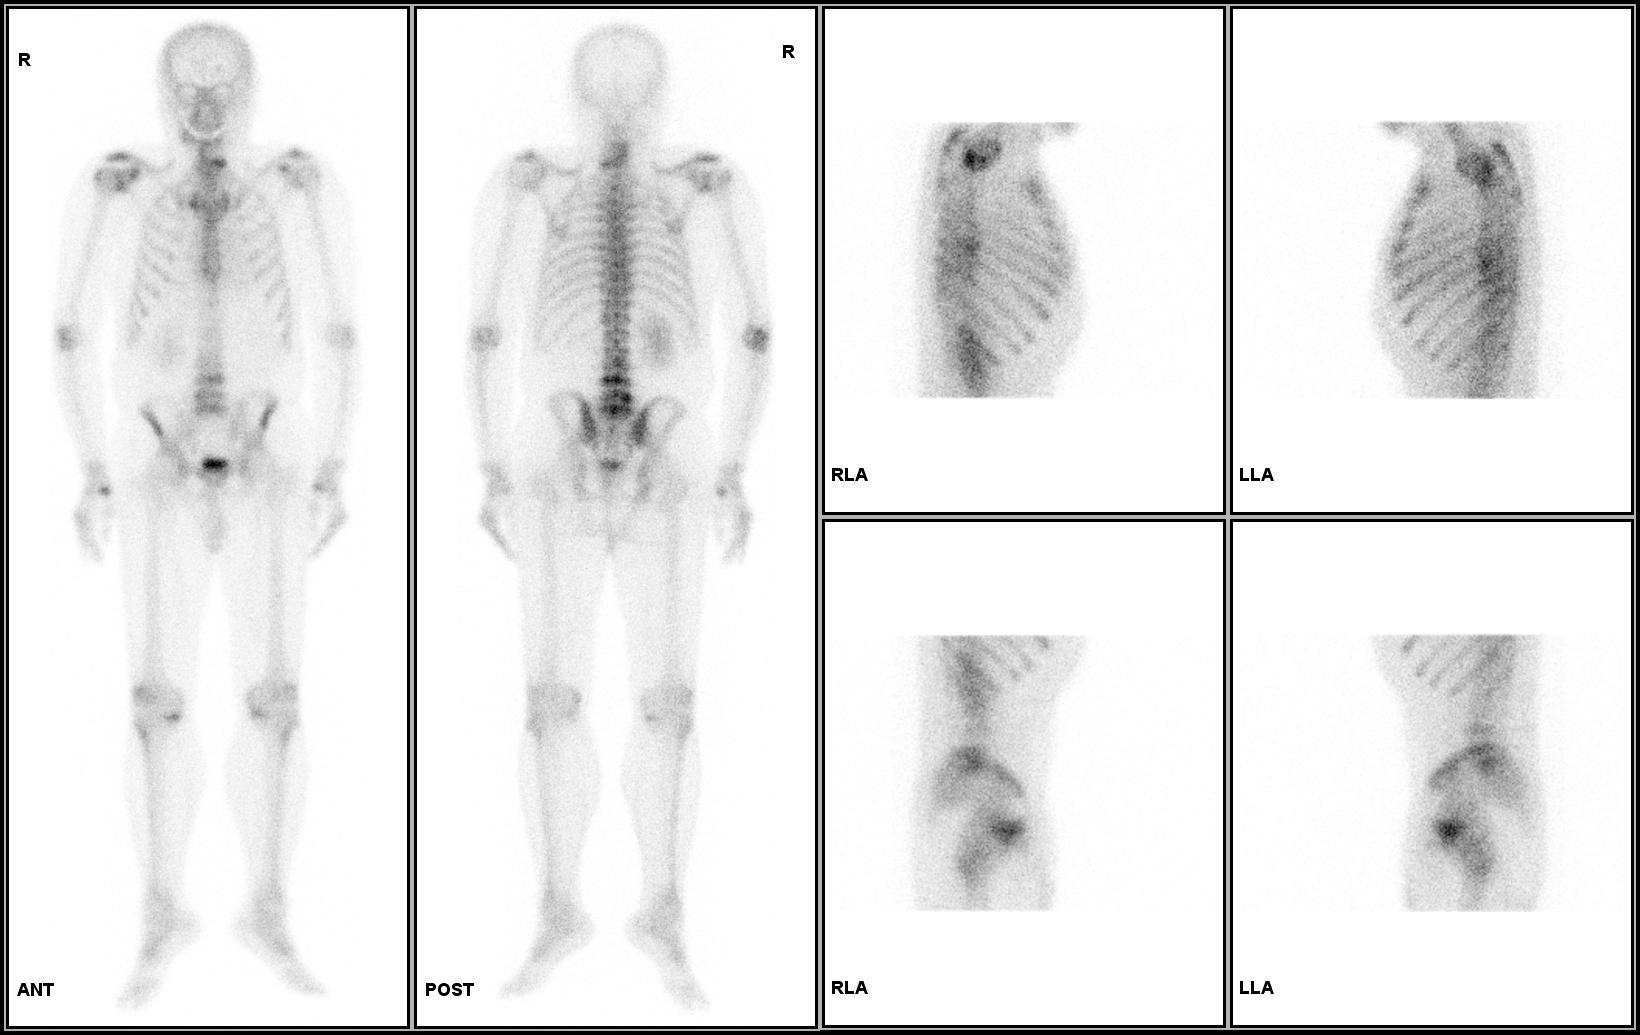person: (6, 6, 820, 1027)
